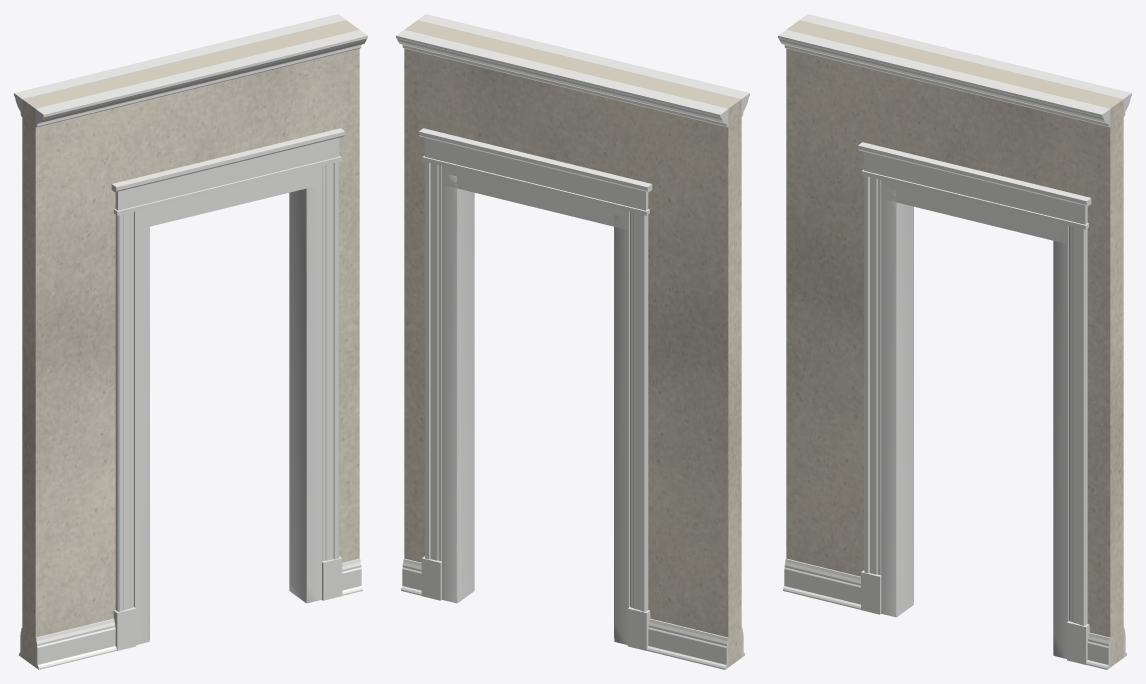
The model's file is interior_wall_end_doorway.glb.
3 renders of one model, left to right at view 1: azimuth 30°, elevation 25°; view 2: azimuth 150°, elevation 25°; view 3: azimuth 330°, elevation 25°, orthographic.
Visible parts, largest first — view 1: interior_wall_end_doorway_plaster, molduras, interior_wall_end_doorway_frame; view 2: interior_wall_end_doorway_plaster, molduras, interior_wall_end_doorway_frame; view 3: interior_wall_end_doorway_plaster, molduras, interior_wall_end_doorway_frame.
Boxes of the visible parts, bbox=[...] form: interior_wall_end_doorway_plaster: bbox=[22, 20, 359, 667]; molduras: bbox=[14, 14, 367, 669]; interior_wall_end_doorway_frame: bbox=[134, 166, 321, 644]; interior_wall_end_doorway_plaster: bbox=[404, 20, 741, 667]; molduras: bbox=[396, 14, 749, 669]; interior_wall_end_doorway_frame: bbox=[442, 166, 629, 644]; interior_wall_end_doorway_plaster: bbox=[786, 20, 1123, 667]; molduras: bbox=[778, 14, 1131, 669]; interior_wall_end_doorway_frame: bbox=[881, 180, 1068, 658].
Size of the model in its own units: 1.7 by 2.8 by 0.27.
3 materials, 1 textured.
